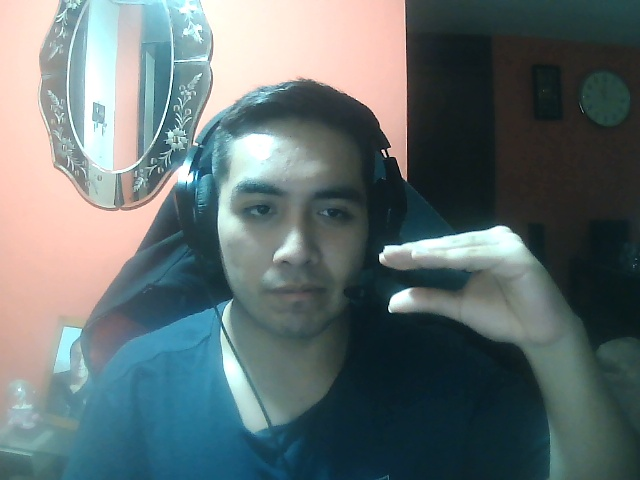no: (374, 222, 585, 347)
